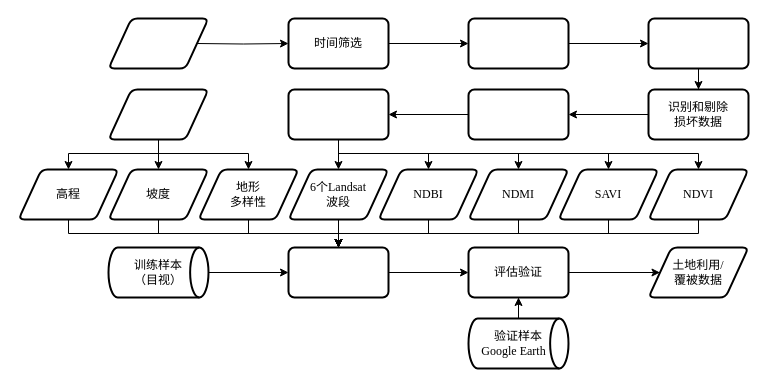
This 766x386 diagram has some shape labels left out. Each missing label, with the box of its shape:
Landsat 数据: (107, 17, 209, 69)
云量筛选: (647, 17, 749, 69)
使用CART 监督分类: (287, 246, 389, 298)
像素中值融合: (287, 88, 389, 140)
填补和修复 缺失数据: (467, 88, 569, 140)
数字高程 数据: (107, 88, 209, 140)
空间筛选: (467, 17, 569, 69)
